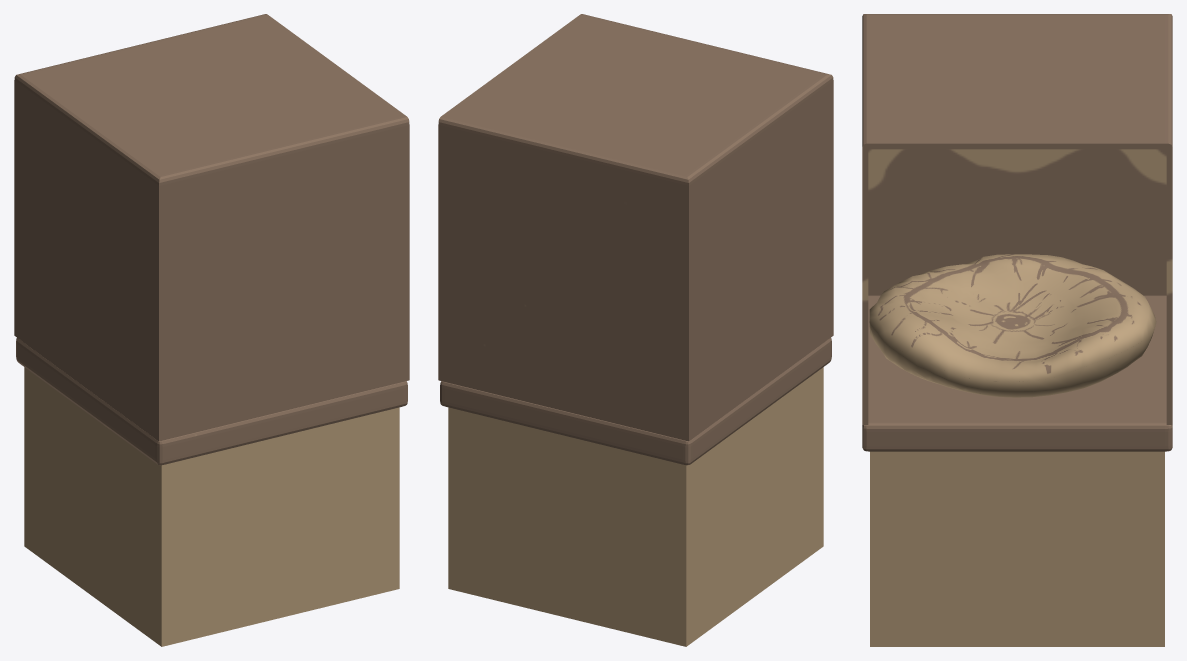
File: rest sta.fbx
3 views of the same model, side by side, from view 1: azimuth 30°, elevation 25°; view 2: azimuth 150°, elevation 25°; view 3: azimuth 270°, elevation 25° (orthographic). The views are drawn at different scales.
Parts seen in each view (by area): view 1: rest sta; view 2: rest sta; view 3: rest sta.
Boxes of the visible parts, box(x1,y1,x2,y2) form: rest sta: box(14, 14, 409, 646); rest sta: box(438, 14, 833, 646); rest sta: box(862, 14, 1172, 646).
Bounding box in the file's own units: 100 × 180 × 100.
